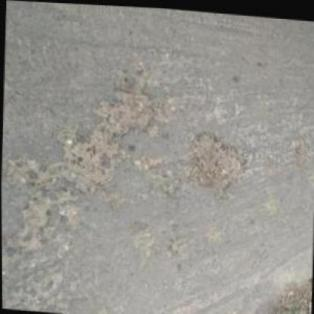Hueco: (186, 128, 247, 202), (60, 131, 125, 200), (93, 84, 157, 139)
